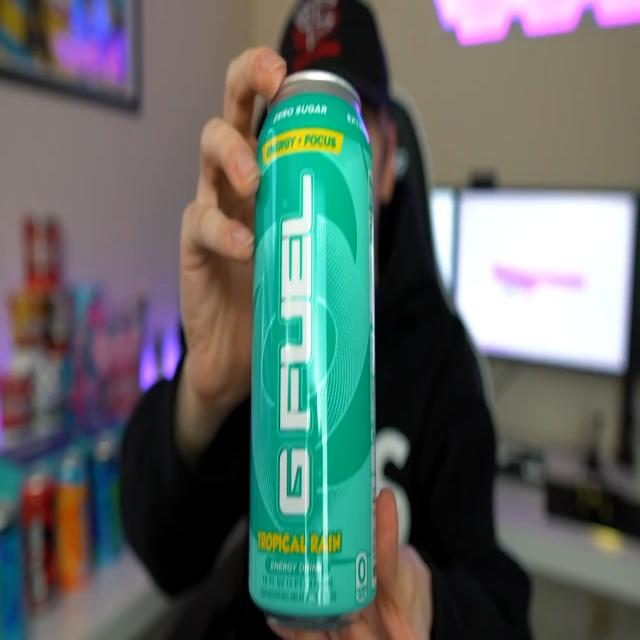can: (245, 61, 375, 637)
